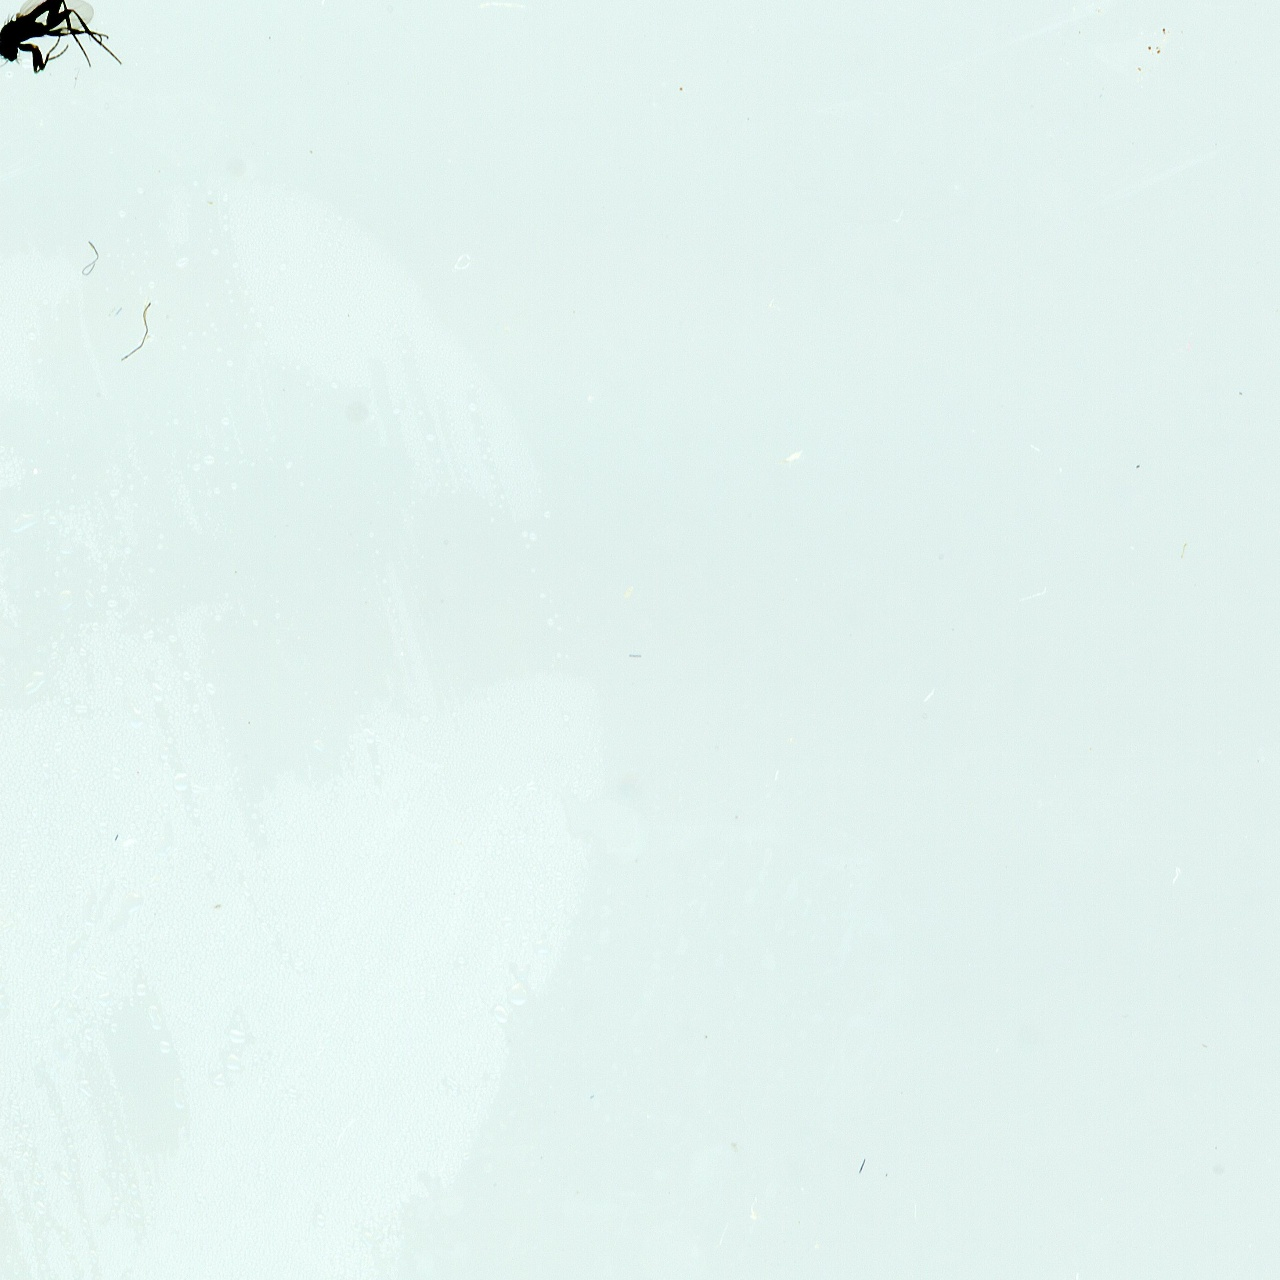arthropod: (0, 0, 124, 77)
